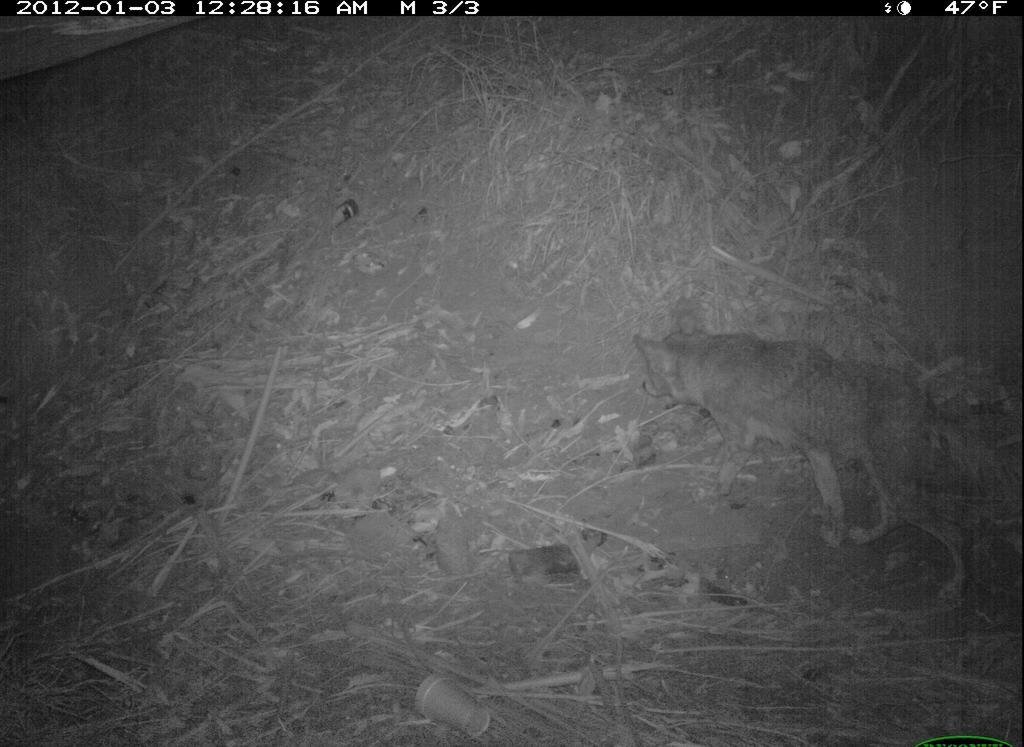coyote: (634, 292, 1016, 619)
